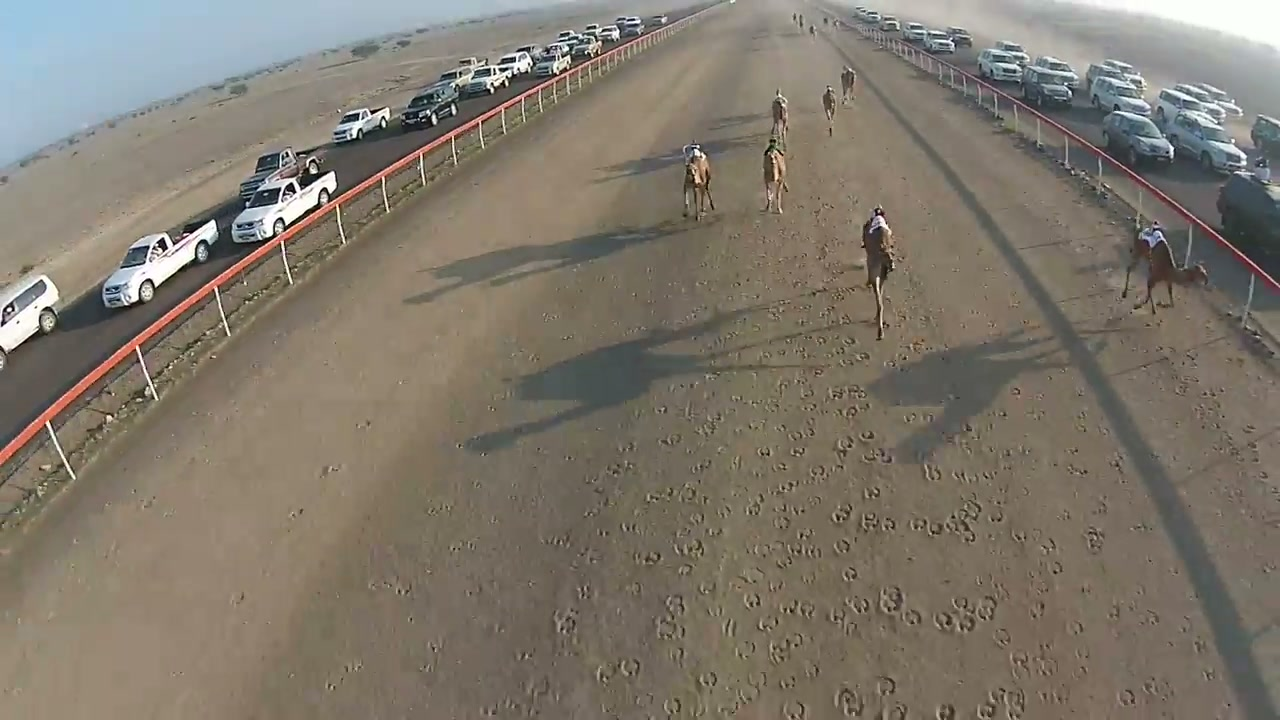animal_foot_print: (633, 206, 1060, 719)
